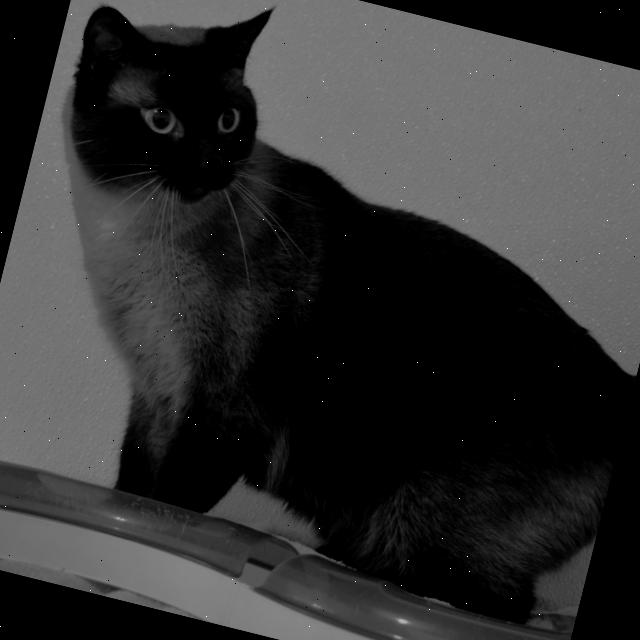siamese_cat: (26, 0, 305, 274)
